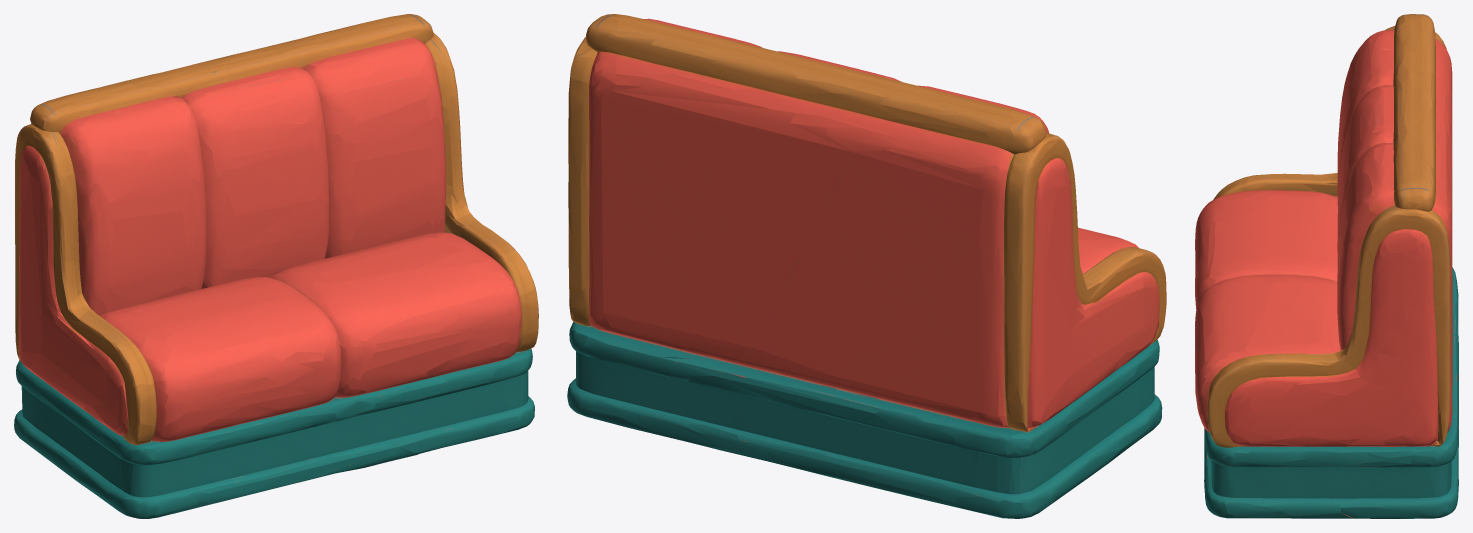
File: restaurant-booth-seat.glb
3 views of the same model, side by side, from view 1: azimuth 30°, elevation 25°; view 2: azimuth 150°, elevation 25°; view 3: azimuth 270°, elevation 25° (orthographic). The views are drawn at different scales.
Visible parts, largest first — view 1: Mesh_0; view 2: Mesh_0; view 3: Mesh_0.
Part boxes in pixels (left/top/right/bottom): Mesh_0: left=14, top=14, right=538, bottom=518; Mesh_0: left=567, top=14, right=1166, bottom=518; Mesh_0: left=1195, top=14, right=1458, bottom=518.
Size of the model in its own units: 1.49 by 1.16 by 0.85.
Materials: 1 (1 with a texture image).
